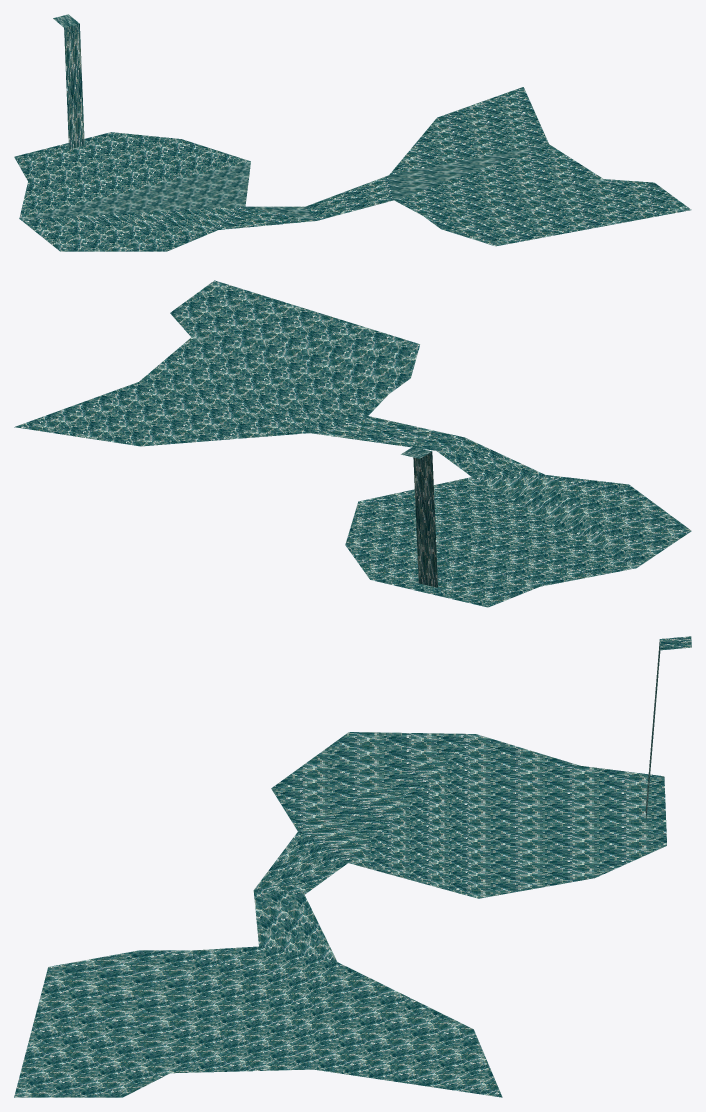
File: kokiri0-water.obj
The picture shows the model from 3 angles, top to bottom: view 1: azimuth 30°, elevation 25°; view 2: azimuth 150°, elevation 25°; view 3: azimuth 270°, elevation 25°; orthographic projection. The views are drawn at different scales.
Parts seen in each view (by area): view 1: kokiri0-water; view 2: kokiri0-water; view 3: kokiri0-water.
Boxes of the visible parts, x1,y1,x2,y2 form: kokiri0-water: (14,14,691,251); kokiri0-water: (14,280,691,607); kokiri0-water: (14,636,691,1097).
Size of the model in its own units: 1289 by 286 by 1010.
1 material, 1 textured.
